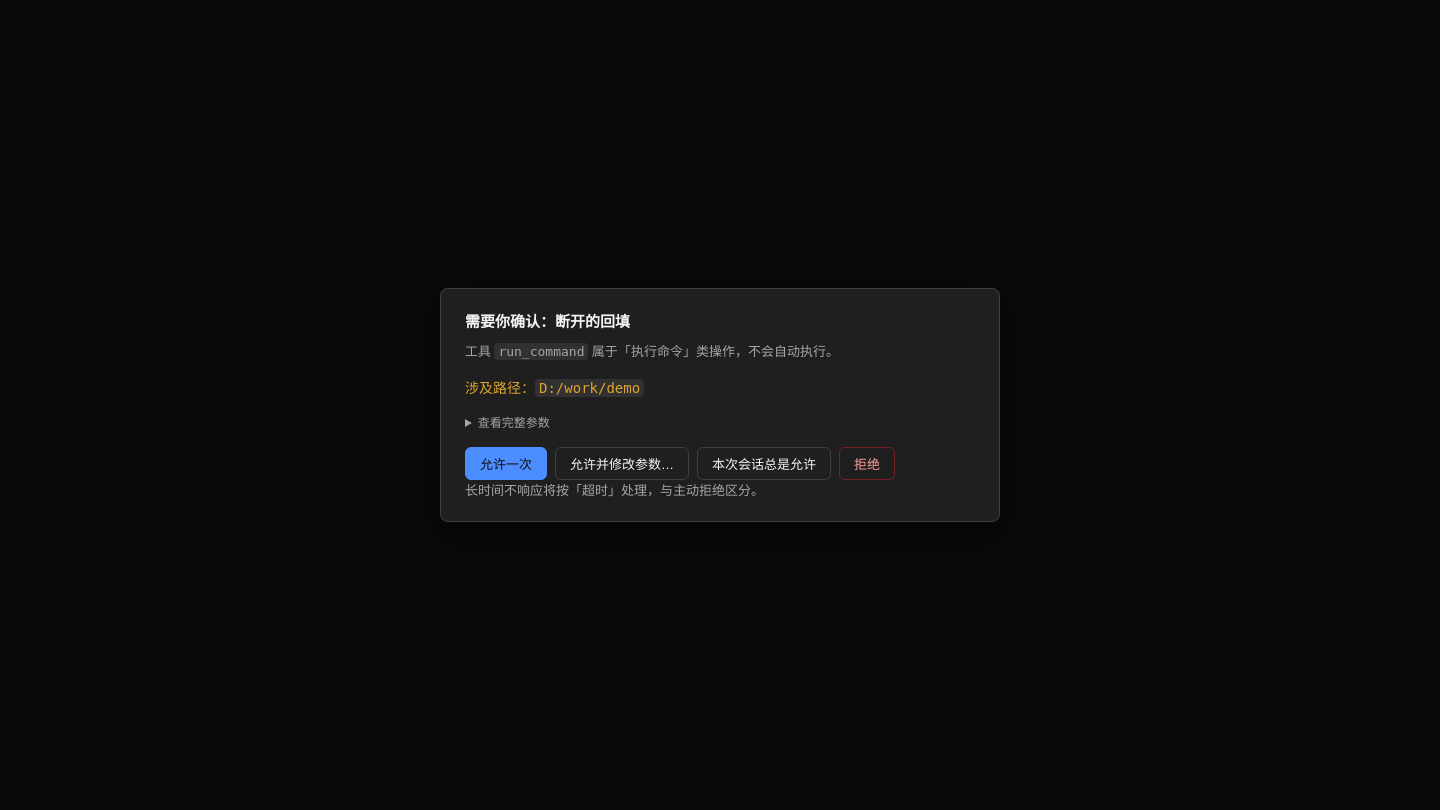
Test: 主进程说结束了，弹窗就关掉那一张（T9） › 回填通道本身抛错 → 说明"这一步没有执行"，不把异常吞掉
Click the button "拒绝". click: click(867, 464)
box: [839, 447, 895, 480]
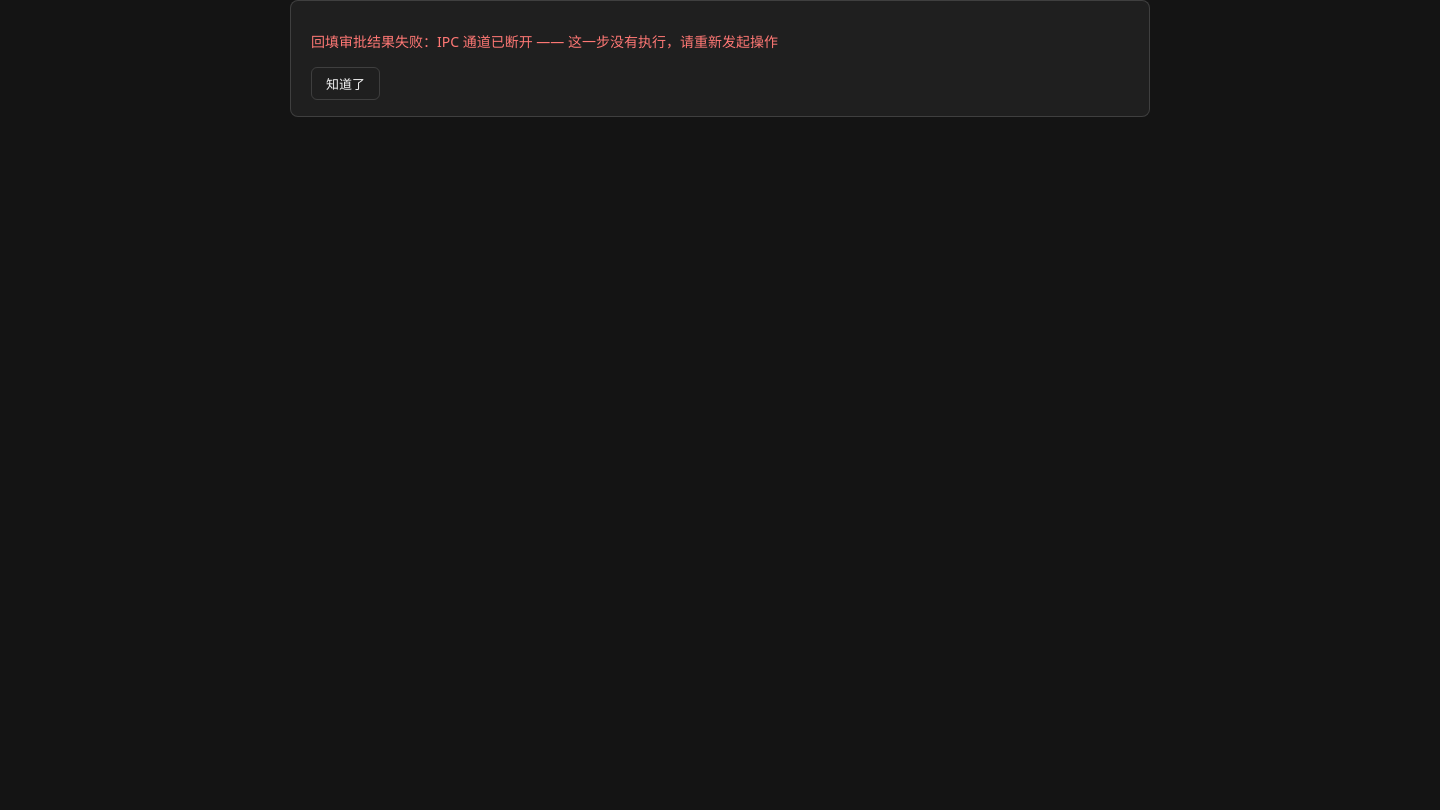
Result: the text "回填审批结果失败：IPC 通道已断开 —— 这一步没有执行，请重新发起操作" is shown at [311, 32, 778, 51]
